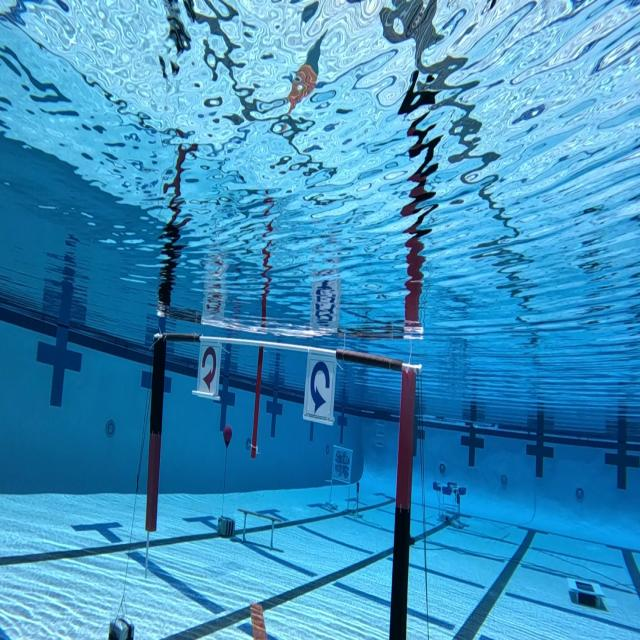blue_side: (298, 348, 342, 424)
red_side: (189, 336, 225, 398)
